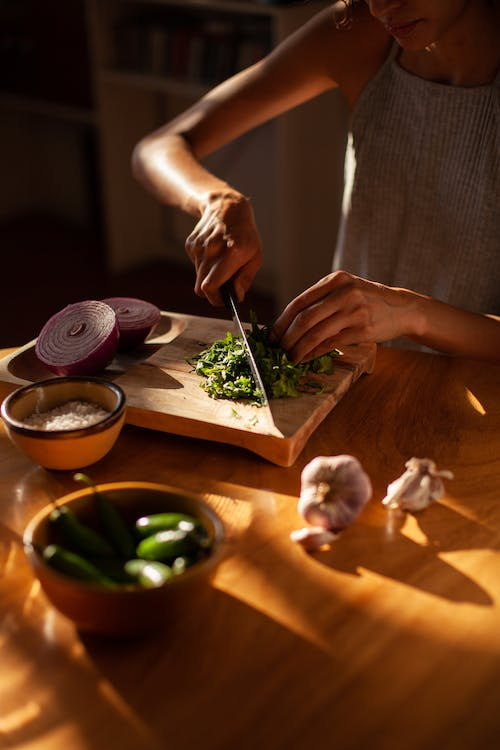knife: (218, 277, 276, 430)
